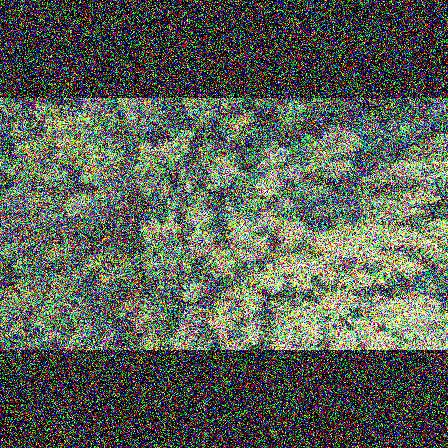Dead: (98, 313, 129, 349)
